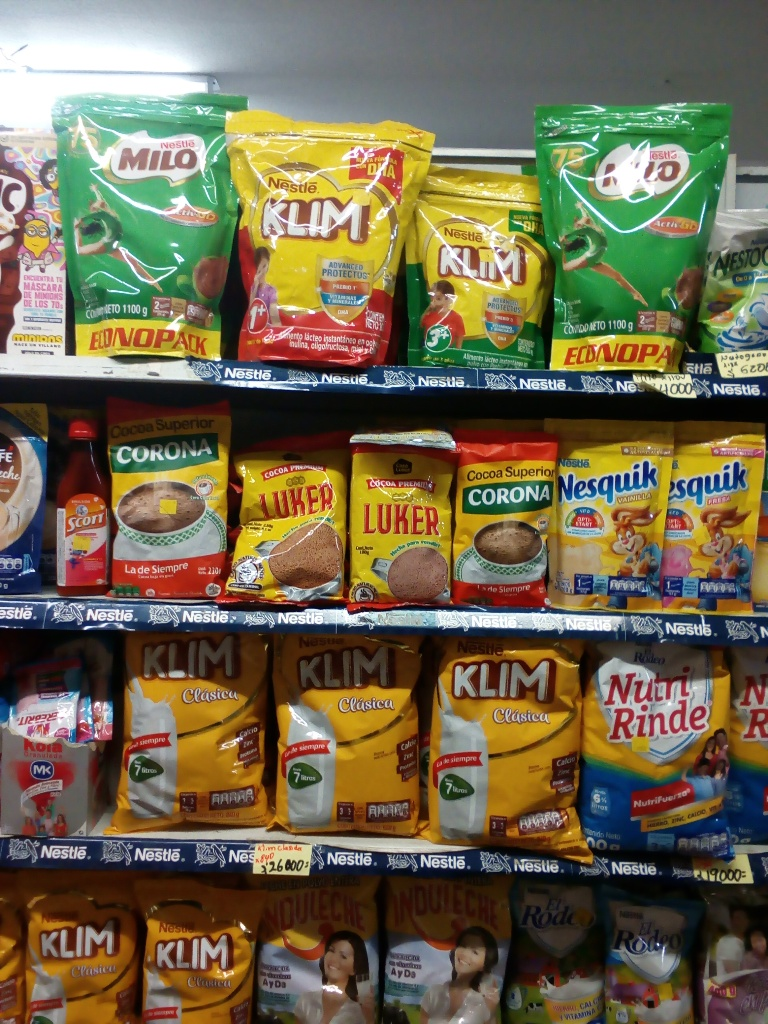COL0170305DYP20000: (662, 418, 766, 612)
COL0170306DYP20000: (542, 419, 660, 608)
